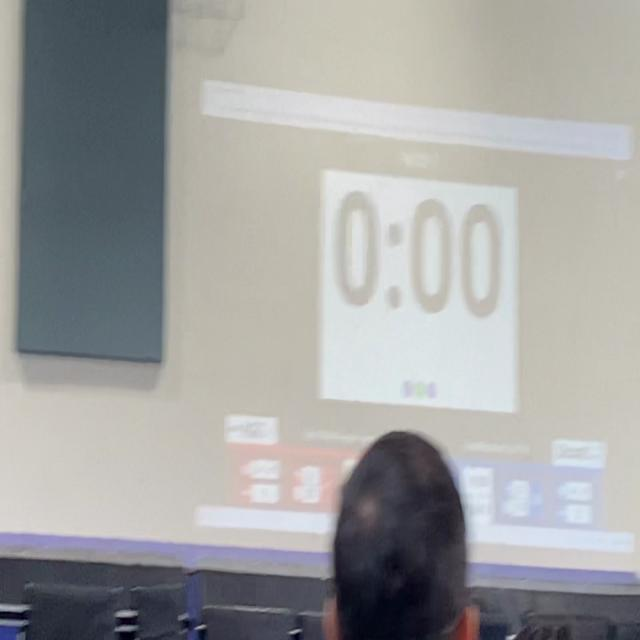artifact_purple: (427, 383, 436, 399)
